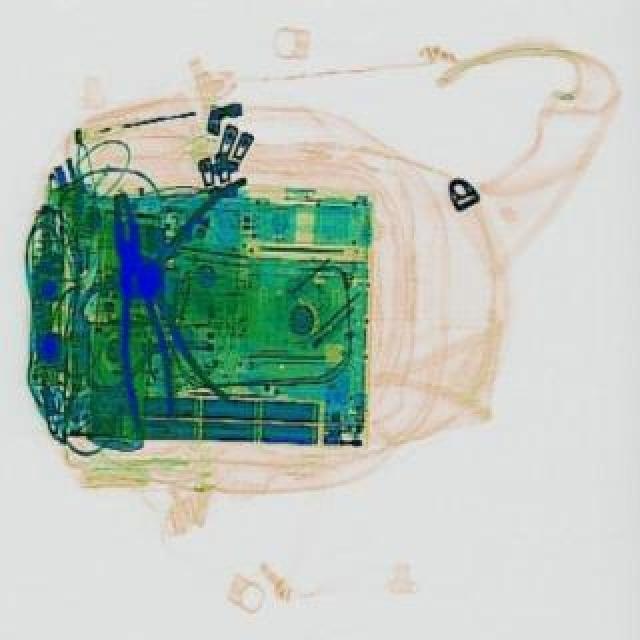wrench: (134, 182, 254, 408), (94, 194, 182, 434)
